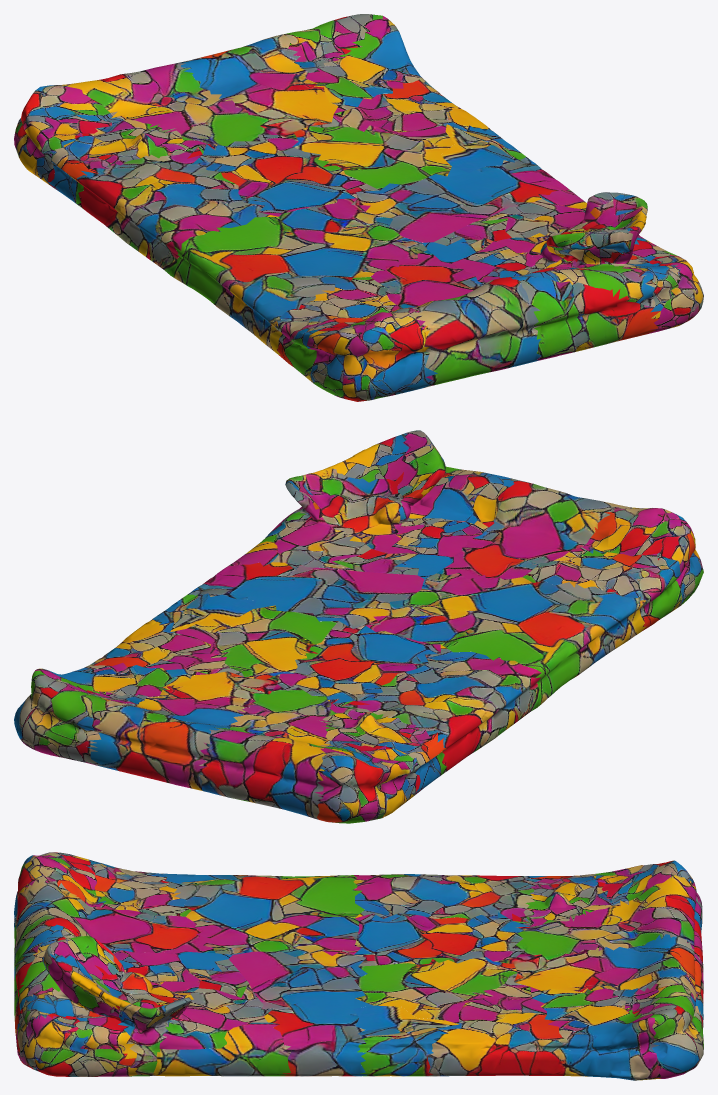
Rendered from safety_mat_floor_pad_01.glb.
The picture shows the model from 3 angles, top to bottom: view 1: azimuth 30°, elevation 25°; view 2: azimuth 150°, elevation 25°; view 3: azimuth 270°, elevation 25°; orthographic projection. The views are drawn at different scales.
Parts seen in each view (by area): view 1: tripo_node_fd335ec8-78af-4621-87ce-9a564e4f4651; view 2: tripo_node_fd335ec8-78af-4621-87ce-9a564e4f4651; view 3: tripo_node_fd335ec8-78af-4621-87ce-9a564e4f4651.
Boxes of the visible parts, x1=… form: tripo_node_fd335ec8-78af-4621-87ce-9a564e4f4651: x1=14, y1=14, x2=703, y2=401; tripo_node_fd335ec8-78af-4621-87ce-9a564e4f4651: x1=14, y1=430, x2=703, y2=823; tripo_node_fd335ec8-78af-4621-87ce-9a564e4f4651: x1=14, y1=852, x2=703, y2=1080.
Bounding box in the file's own units: 0.6177 × 0.1546 × 0.9992.
Materials: 1 (1 with a texture image).
